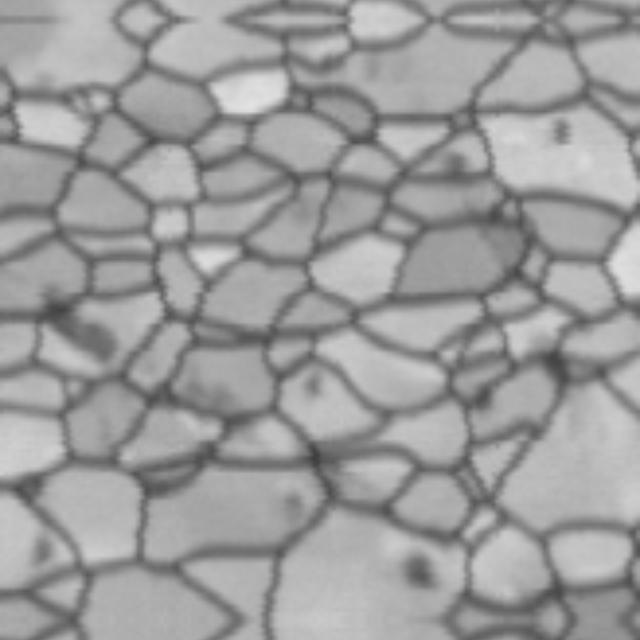good_void: (41, 286, 126, 372), (178, 357, 253, 416), (5, 530, 61, 574), (391, 550, 444, 595), (6, 469, 52, 507), (459, 379, 504, 413), (275, 476, 313, 516), (437, 145, 476, 183), (291, 366, 326, 399), (547, 116, 572, 156)
